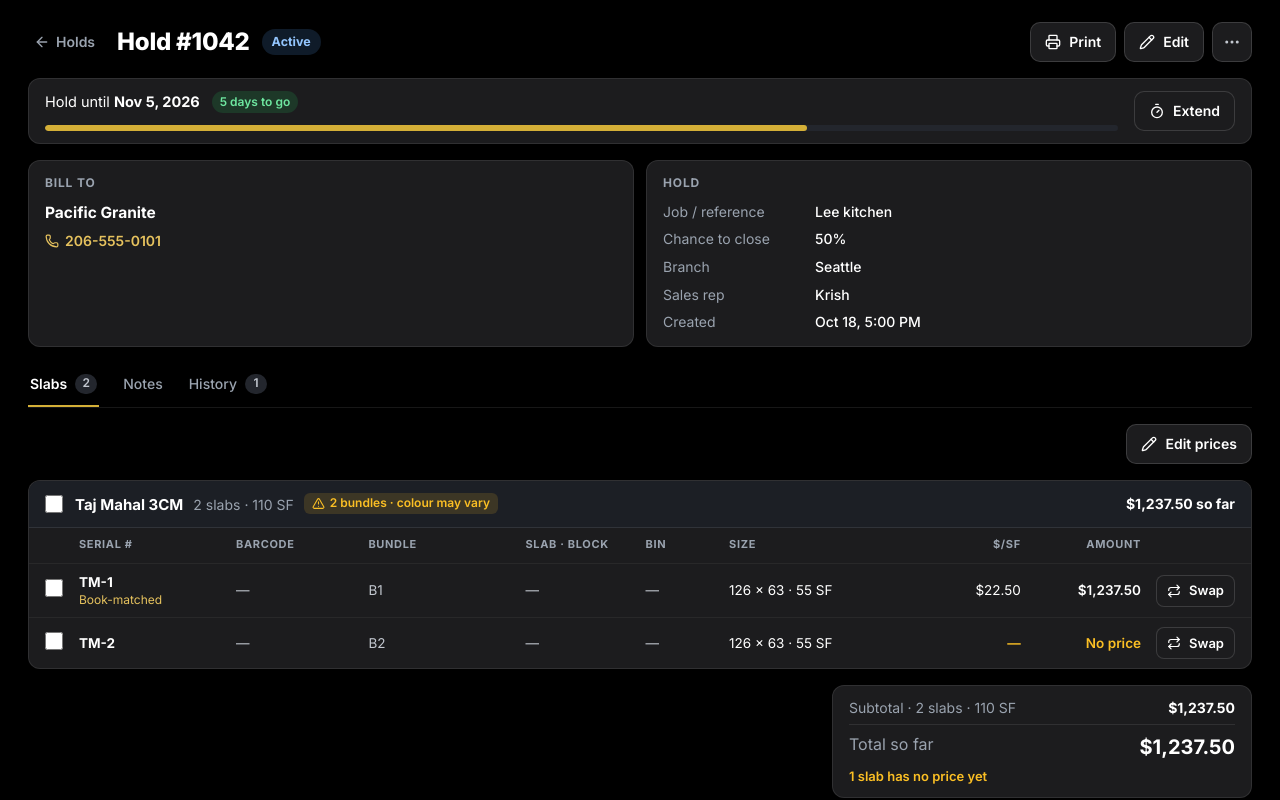
Test: A hold › ticks slabs into the selection bar
The width and height of the screenshot is (1280, 800).
Click the checkbox named "Select TM-1".
click(54, 588)  # box [45, 579, 63, 597]
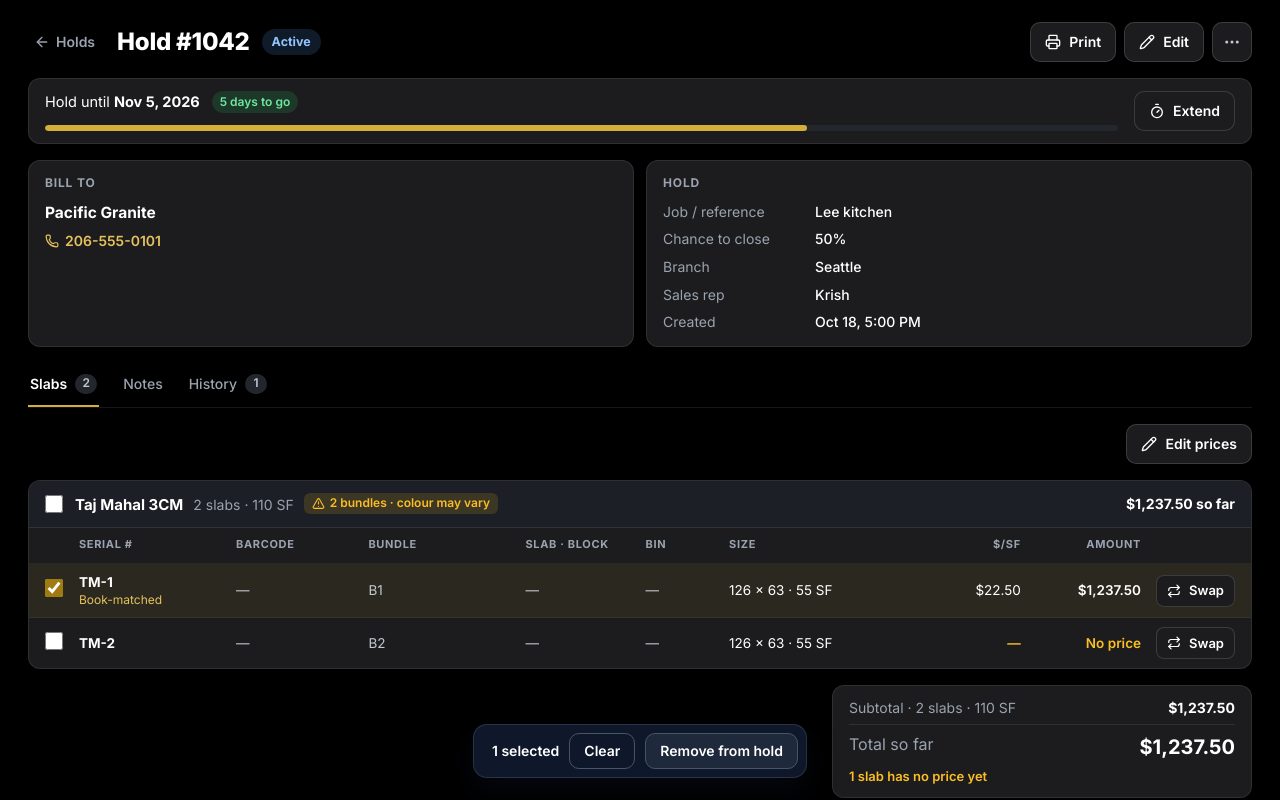
Expected: the element named "Selected slabs" shows "1 selected", [473, 724, 807, 778]
Click the button "Remove from hold".
click(722, 751)  # box [645, 733, 798, 769]
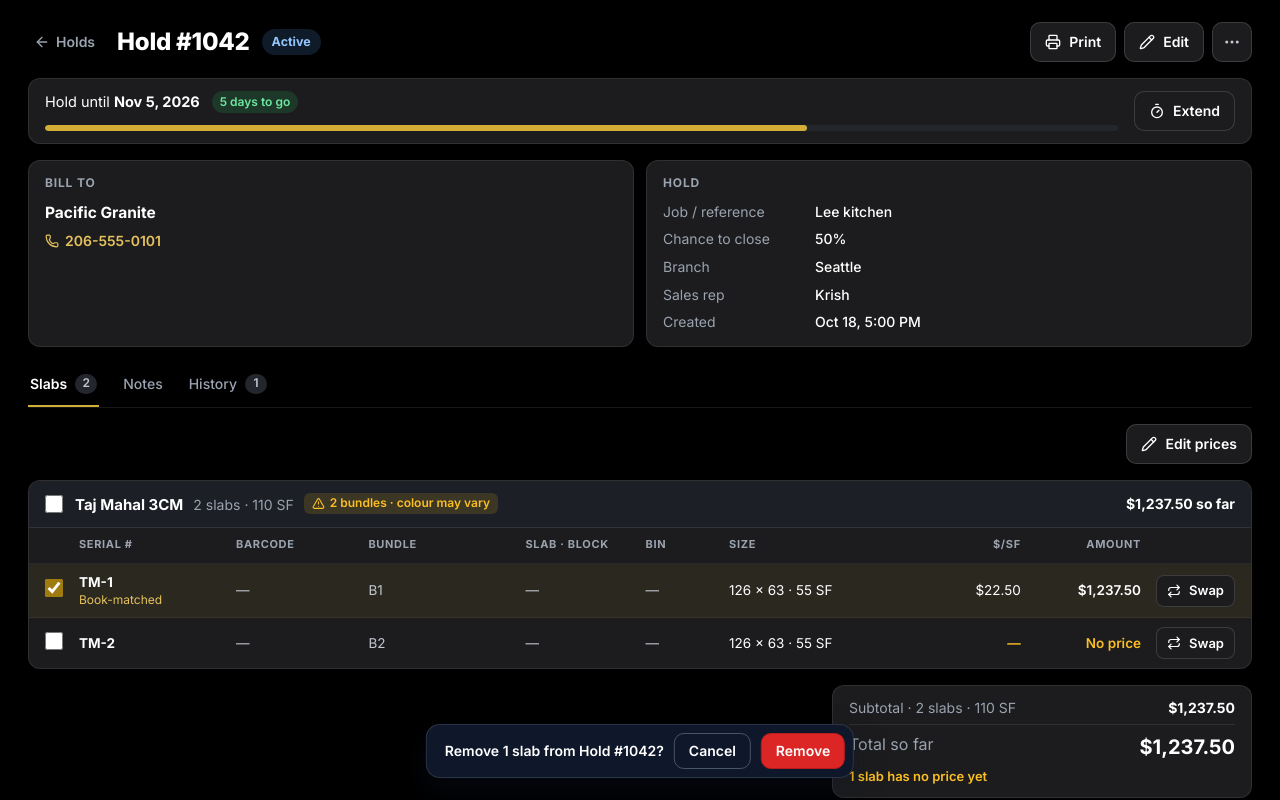
Expected: the text "Remove 1 slab from Hold #1042?" is shown, [445, 741, 664, 761]
